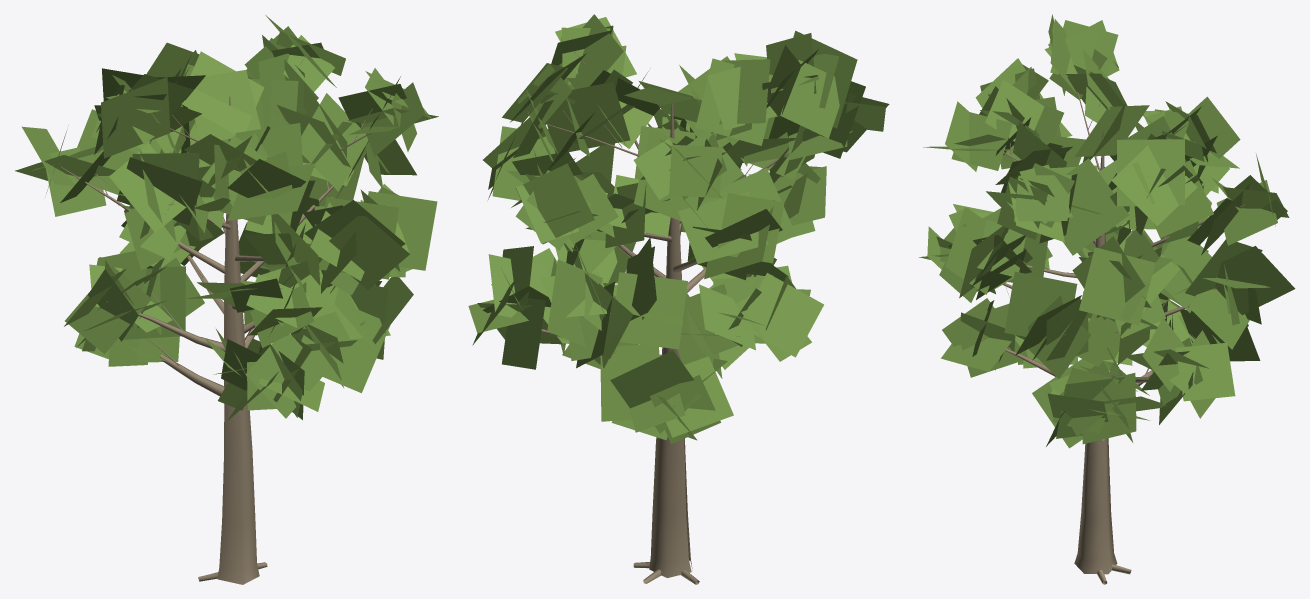
File: oak-3-lod2.glb
3 renders of one model, left to right at view 1: azimuth 30°, elevation 25°; view 2: azimuth 150°, elevation 25°; view 3: azimuth 270°, elevation 25°, orthographic. The views are drawn at different scales.
Parts seen in each view (by area): view 1: oak-3-lod2-foliage, oak-3-lod2-bark; view 2: oak-3-lod2-foliage, oak-3-lod2-bark; view 3: oak-3-lod2-foliage, oak-3-lod2-bark.
Part boxes in pixels (x1,y1,x2,y2): oak-3-lod2-foliage: [15, 15, 438, 421]; oak-3-lod2-bark: [60, 57, 372, 584]; oak-3-lod2-foliage: [468, 14, 889, 443]; oak-3-lod2-bark: [514, 52, 818, 584]; oak-3-lod2-foliage: [919, 14, 1295, 448]; oak-3-lod2-bark: [977, 92, 1246, 584].
Bounding box in the file's own units: 20.69 × 31.2 × 21.31.
